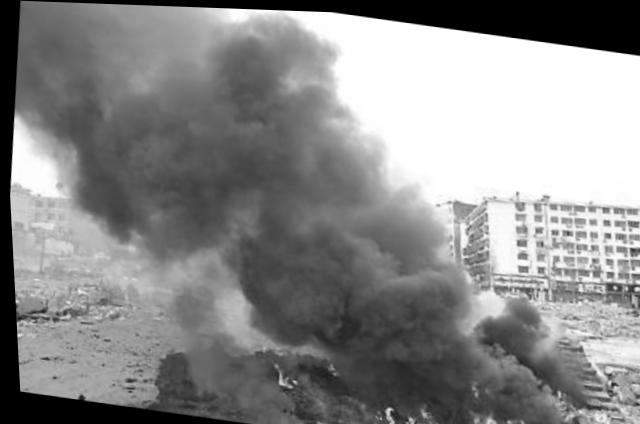smoke: (348, 219, 543, 377), (163, 191, 366, 339), (256, 8, 400, 216), (128, 4, 282, 198), (4, 0, 153, 185)
